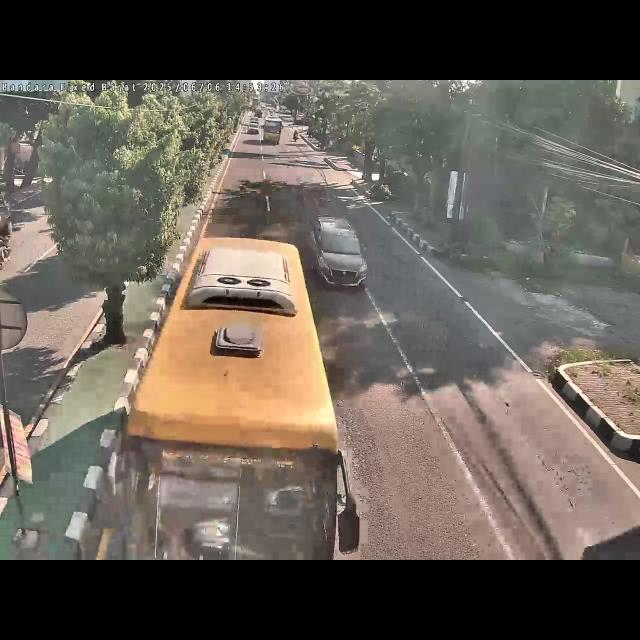Bis: (112, 234, 364, 560)
Mobil: (308, 212, 372, 296)
